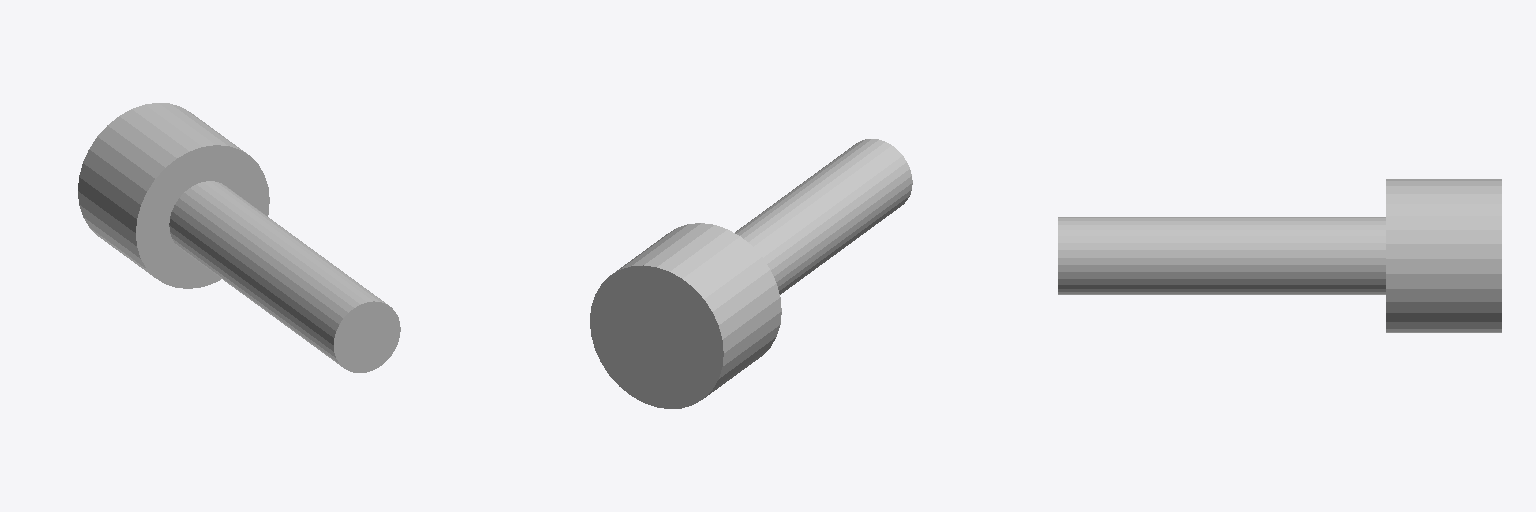
The model's file is Pipe.obj.
3 renders of one model, left to right at view 1: azimuth 30°, elevation 25°; view 2: azimuth 150°, elevation 25°; view 3: azimuth 270°, elevation 25°, orthographic.
Parts seen in each view (by area): view 1: Cylinder.001, Cylinder; view 2: Cylinder.001, Cylinder; view 3: Cylinder, Cylinder.001.
Boxes of the visible parts, <box> form: Cylinder.001: <box>78,103,269,288</box>; Cylinder: <box>169,181,400,372</box>; Cylinder.001: <box>590,223,781,408</box>; Cylinder: <box>735,139,912,294</box>; Cylinder: <box>1058,217,1385,294</box>; Cylinder.001: <box>1386,179,1501,332</box>.
Bounding box in the file's own units: 4 × 4 × 11.5.